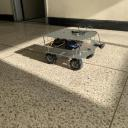cart: (43, 28, 100, 71)
